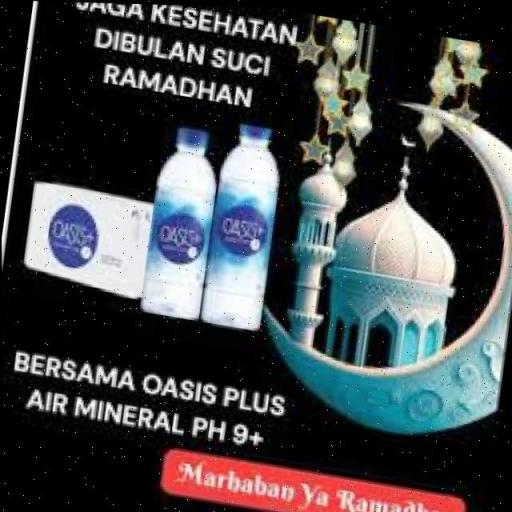plastic: (136, 120, 226, 323)
